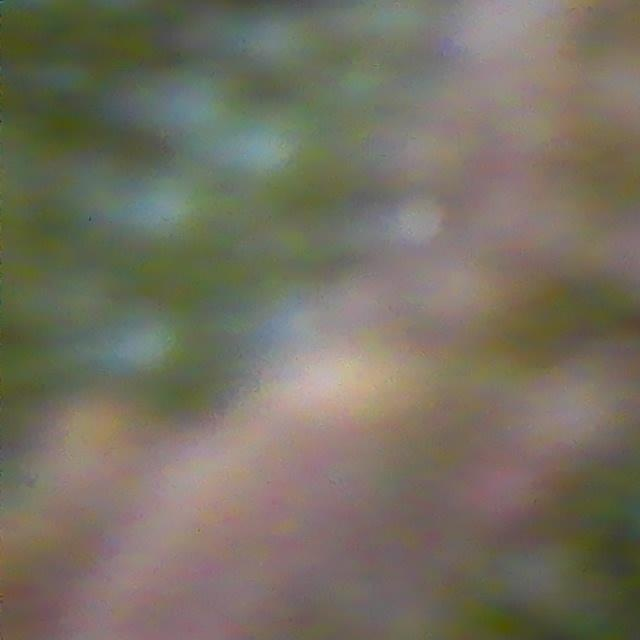SeaGrape: (221, 108, 328, 207), (97, 299, 200, 389), (128, 169, 219, 257)
